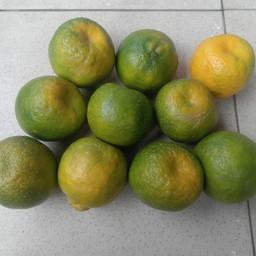Good_orange: (127, 139, 205, 212), (57, 137, 128, 214), (46, 17, 116, 84), (195, 128, 255, 204), (87, 78, 156, 144), (188, 32, 255, 98), (159, 74, 225, 140), (0, 136, 57, 209), (18, 75, 81, 140), (119, 26, 176, 84)
